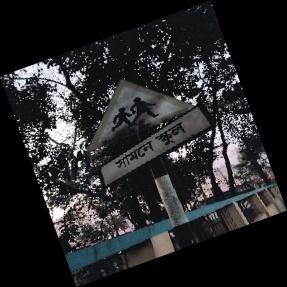School-in-front: (89, 79, 212, 189)
